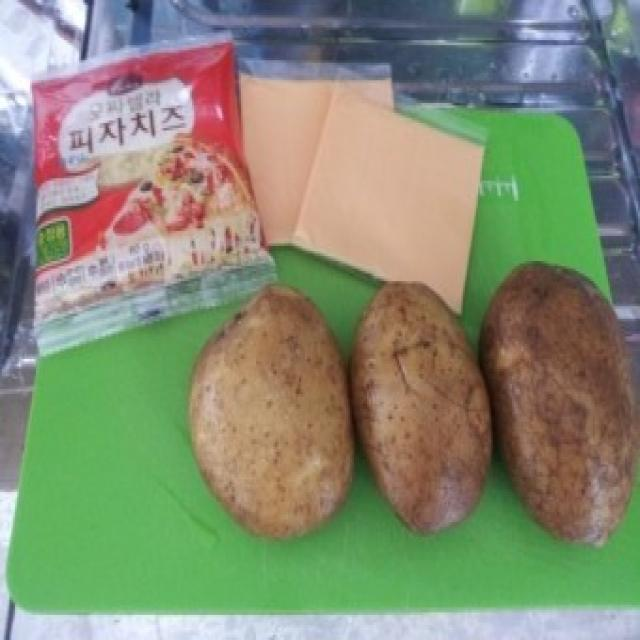potato: (479, 260, 637, 552), (186, 278, 356, 541), (348, 278, 499, 538)
